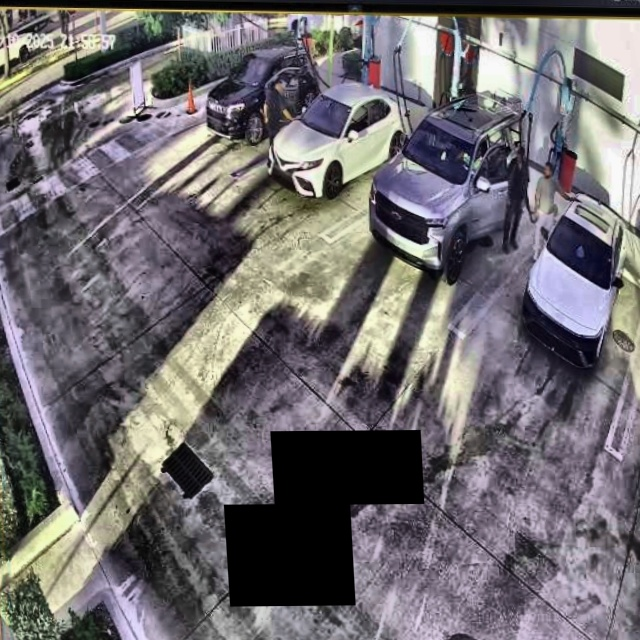Car: (362, 90, 533, 296), (264, 81, 415, 204)
